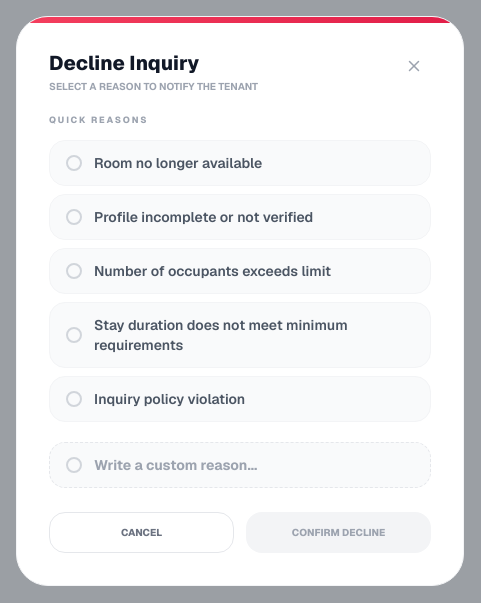
Scenario: LandlordInquiryDeclineModal › enables confirm button when a quick reason is selected
Click the button "Room no longer available" at [240, 163], box [49, 140, 431, 186]
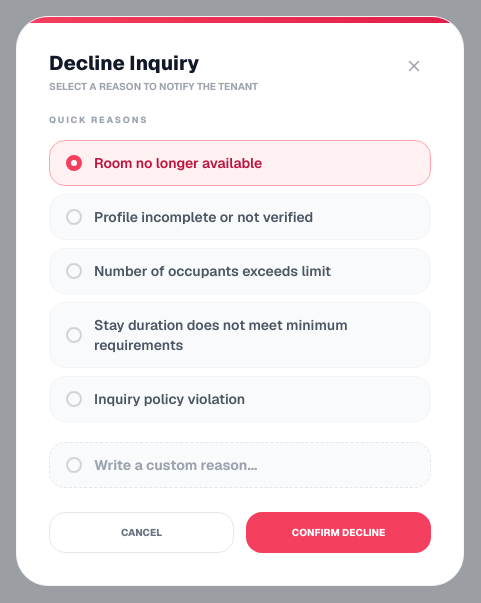
Check: the button "Confirm Decline" is enabled, box [246, 512, 431, 553]
